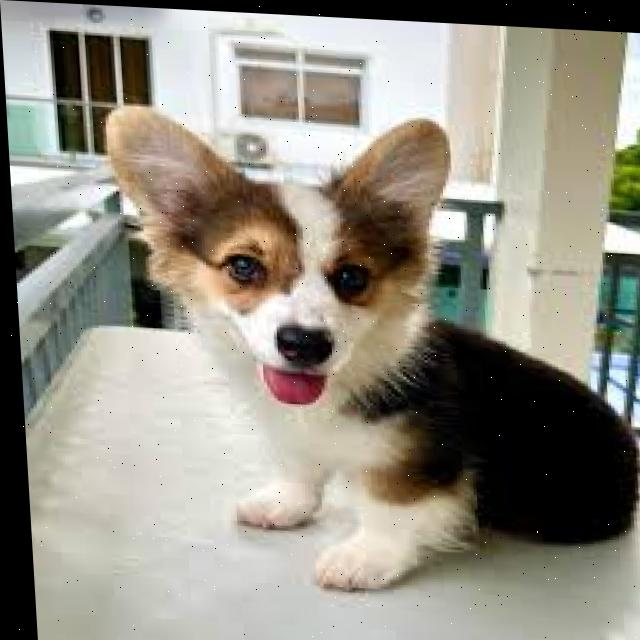CORGI: (98, 81, 640, 599)
